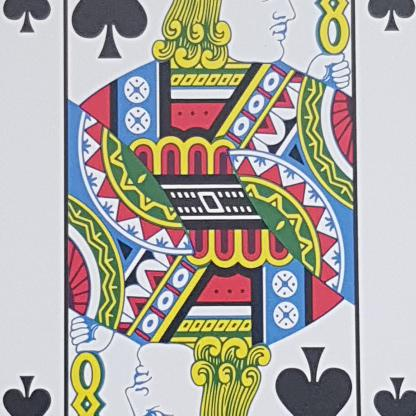Js: (0, 363, 73, 415), (0, 0, 57, 52), (365, 0, 415, 45)
